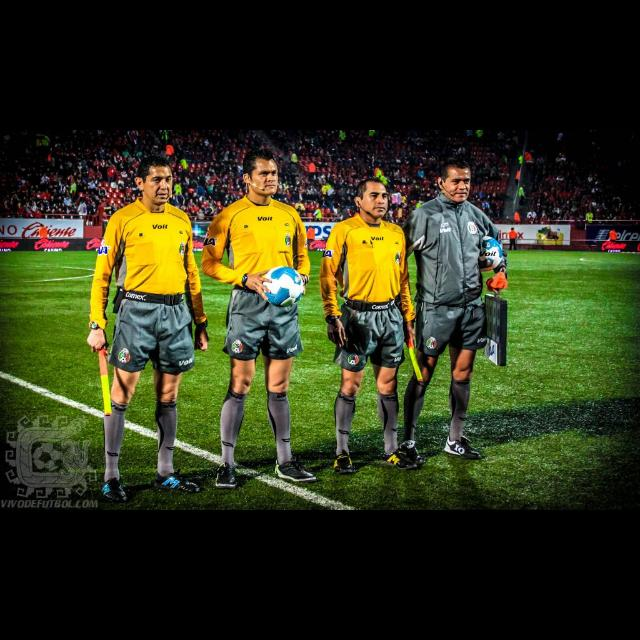Football: (262, 266, 302, 306)
